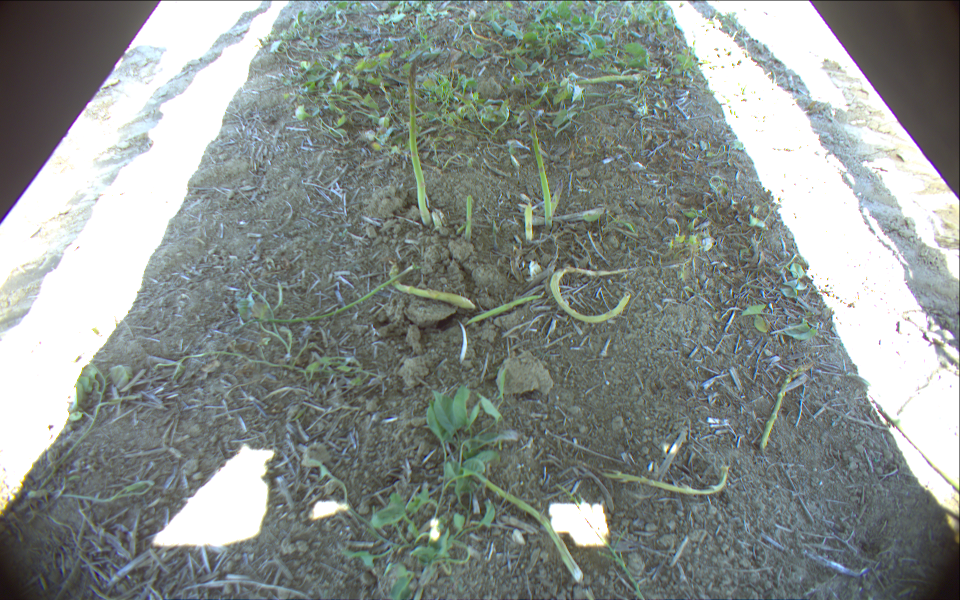aspa: (402, 58, 434, 230), (525, 106, 557, 227)
